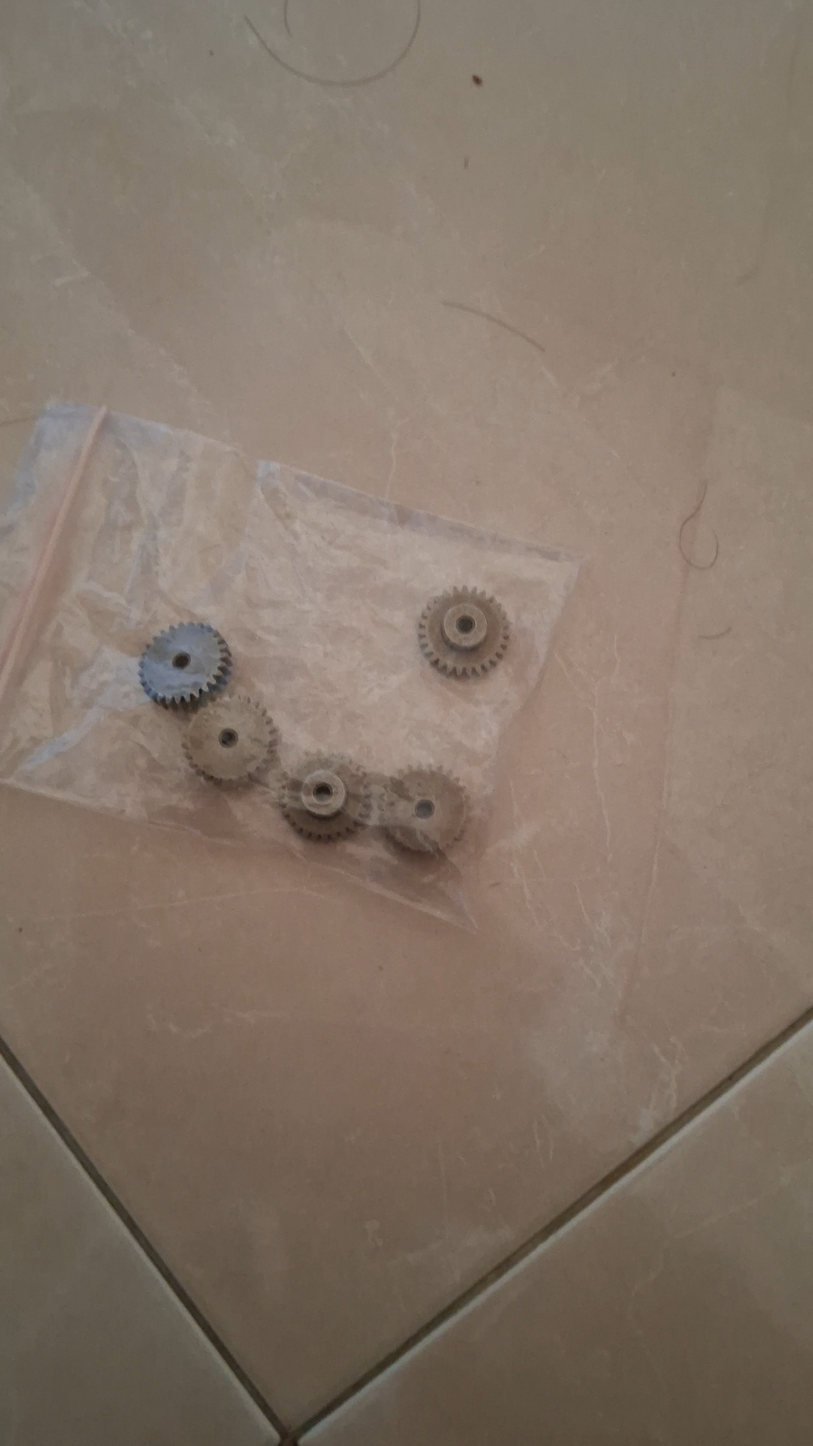spur gear: (183, 694, 278, 784), (418, 588, 510, 676), (279, 755, 370, 841), (139, 622, 231, 707), (384, 767, 467, 853)
